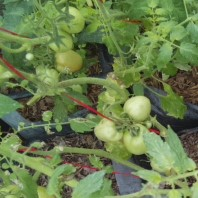tomato: (123, 121, 154, 163), (94, 112, 125, 146), (51, 6, 87, 35), (121, 93, 153, 125), (52, 50, 85, 75), (44, 31, 76, 52)
